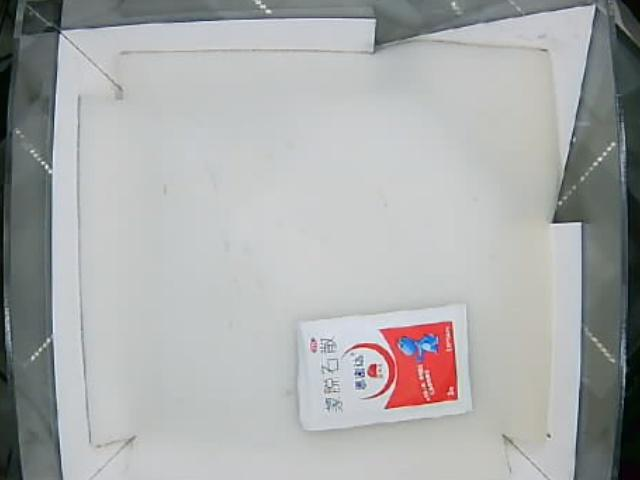Medicine: (296, 300, 473, 431)
